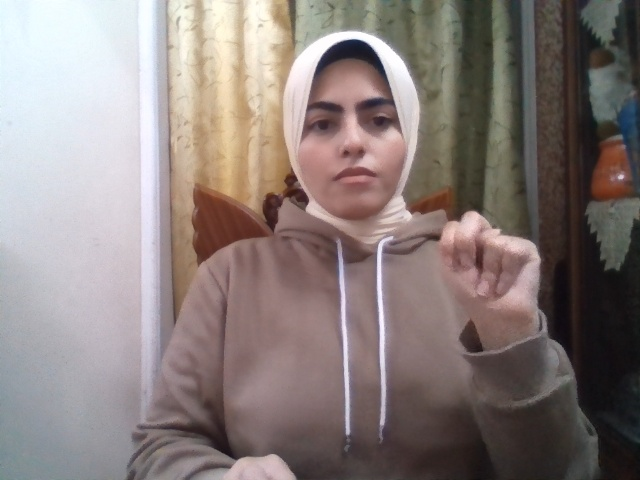N: (440, 210, 541, 327)
